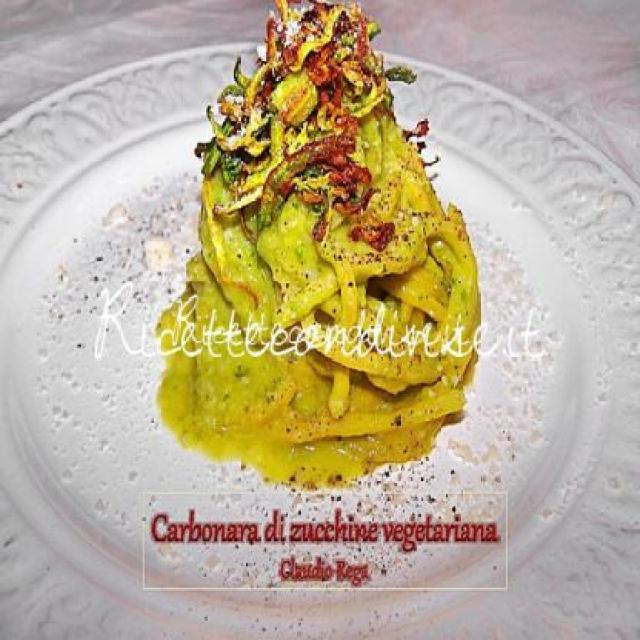Pasta with carbonara sauce: (188, 20, 512, 483)
